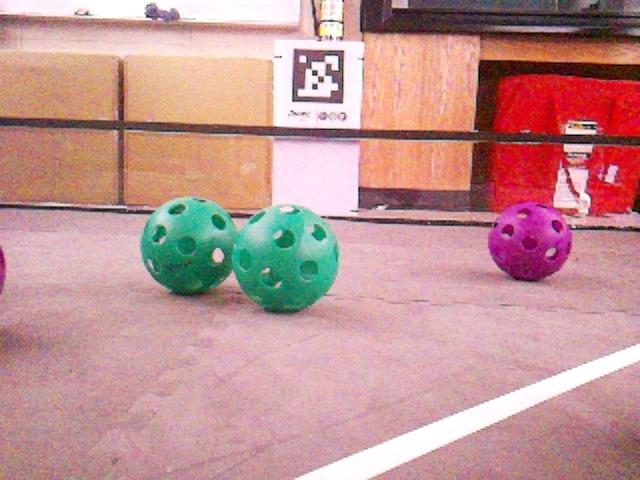Green: (231, 204, 339, 312), (139, 196, 239, 294), (0, 246, 6, 291)
Purple: (485, 200, 573, 281)
